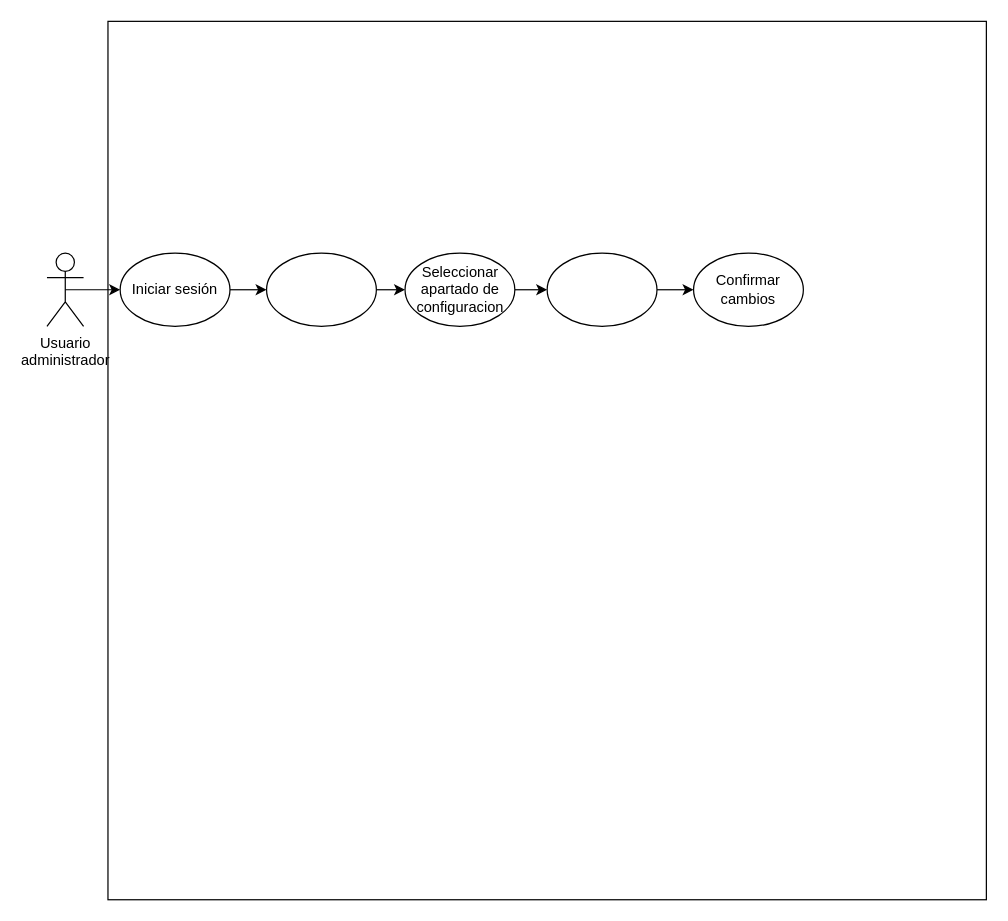
Some shapes in this 1008 by 921 pixel diagram are drawn without their labels. The centre of each missing label's shape, as x and y in pixels:
Aplicar cambios de medidas: point 601,289
ingresar menu principal: point 320,289
